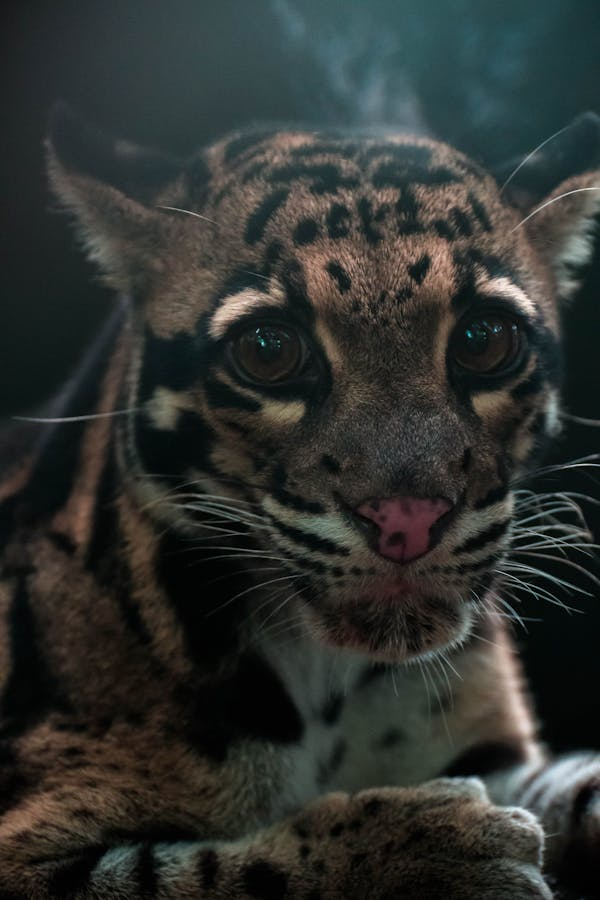Leopard: (1, 95, 600, 900)
